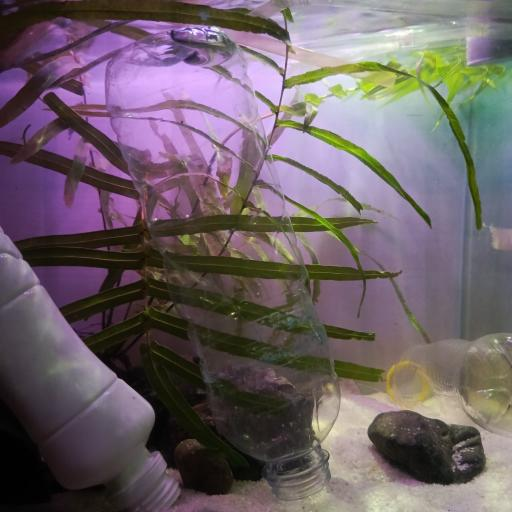bottle_cap: (461, 39, 512, 69)
plastic_bottle: (104, 26, 336, 500), (2, 227, 179, 509), (375, 334, 512, 436)
plastic_straw: (231, 25, 410, 84)
